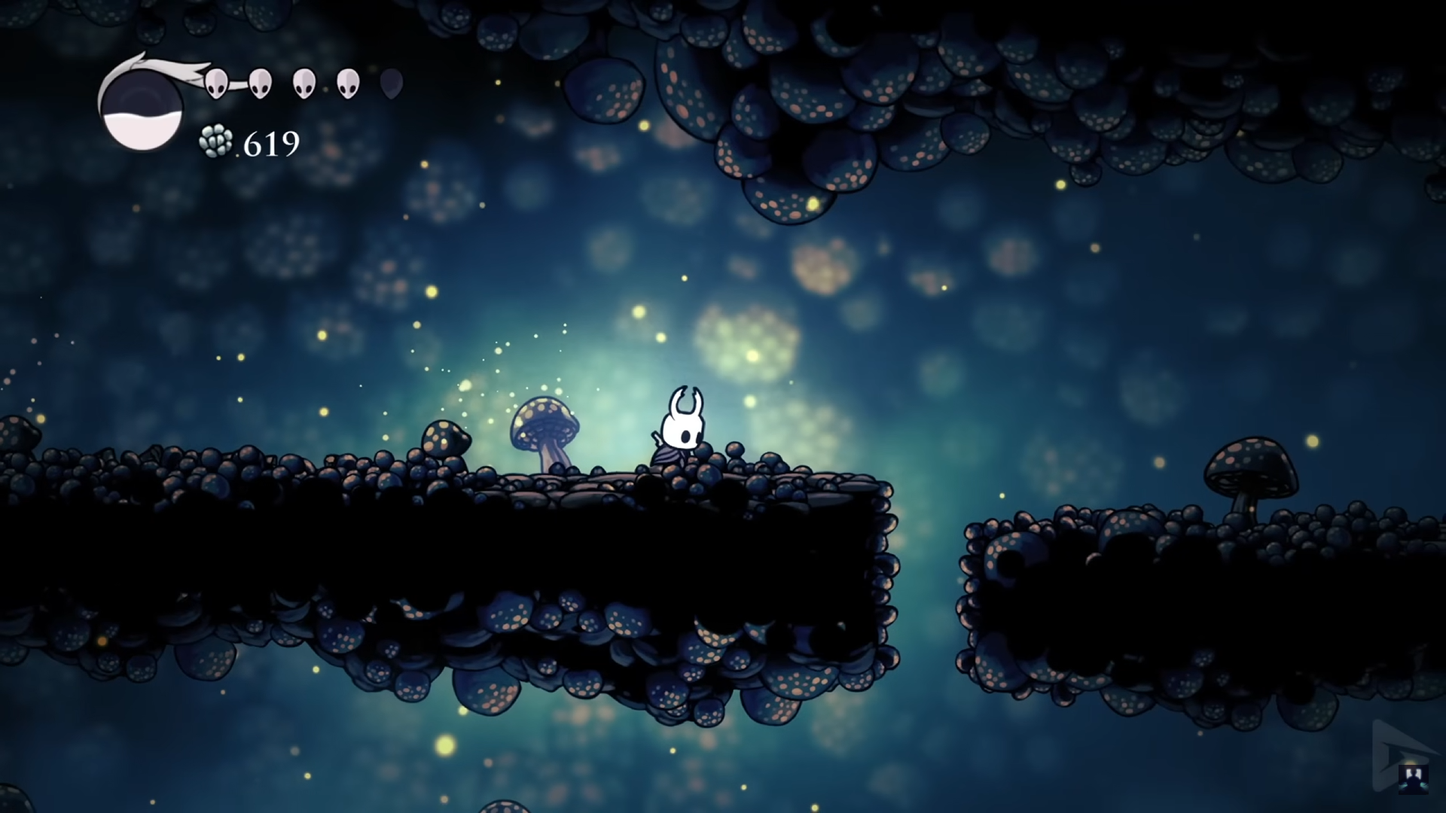HK: (650, 384, 712, 474)
